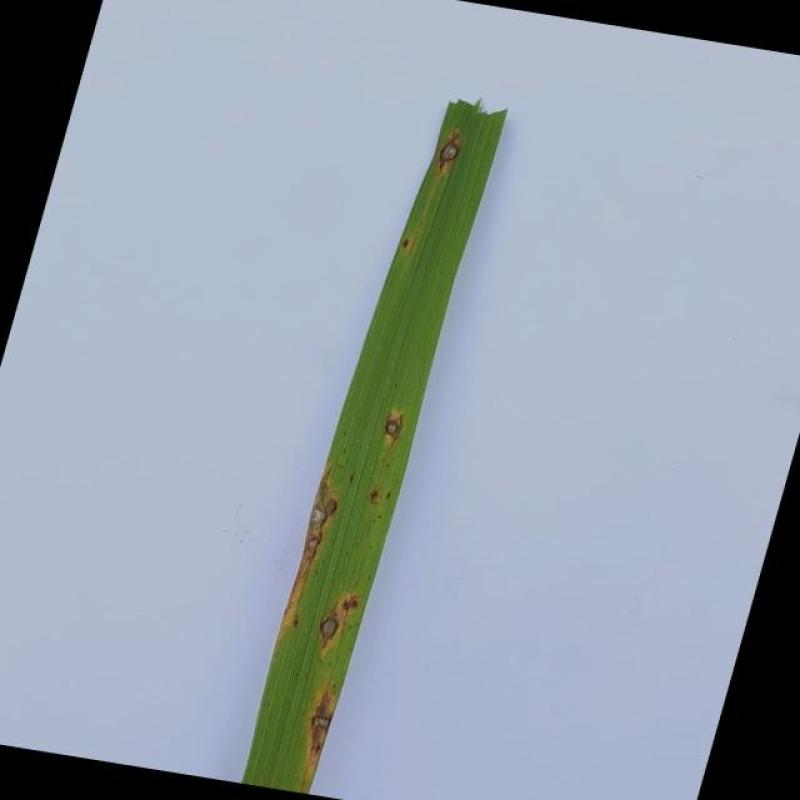Leaf_Blast: (281, 468, 340, 616), (307, 676, 338, 769), (434, 129, 465, 181), (316, 608, 342, 652), (383, 406, 405, 449), (333, 590, 365, 616)
